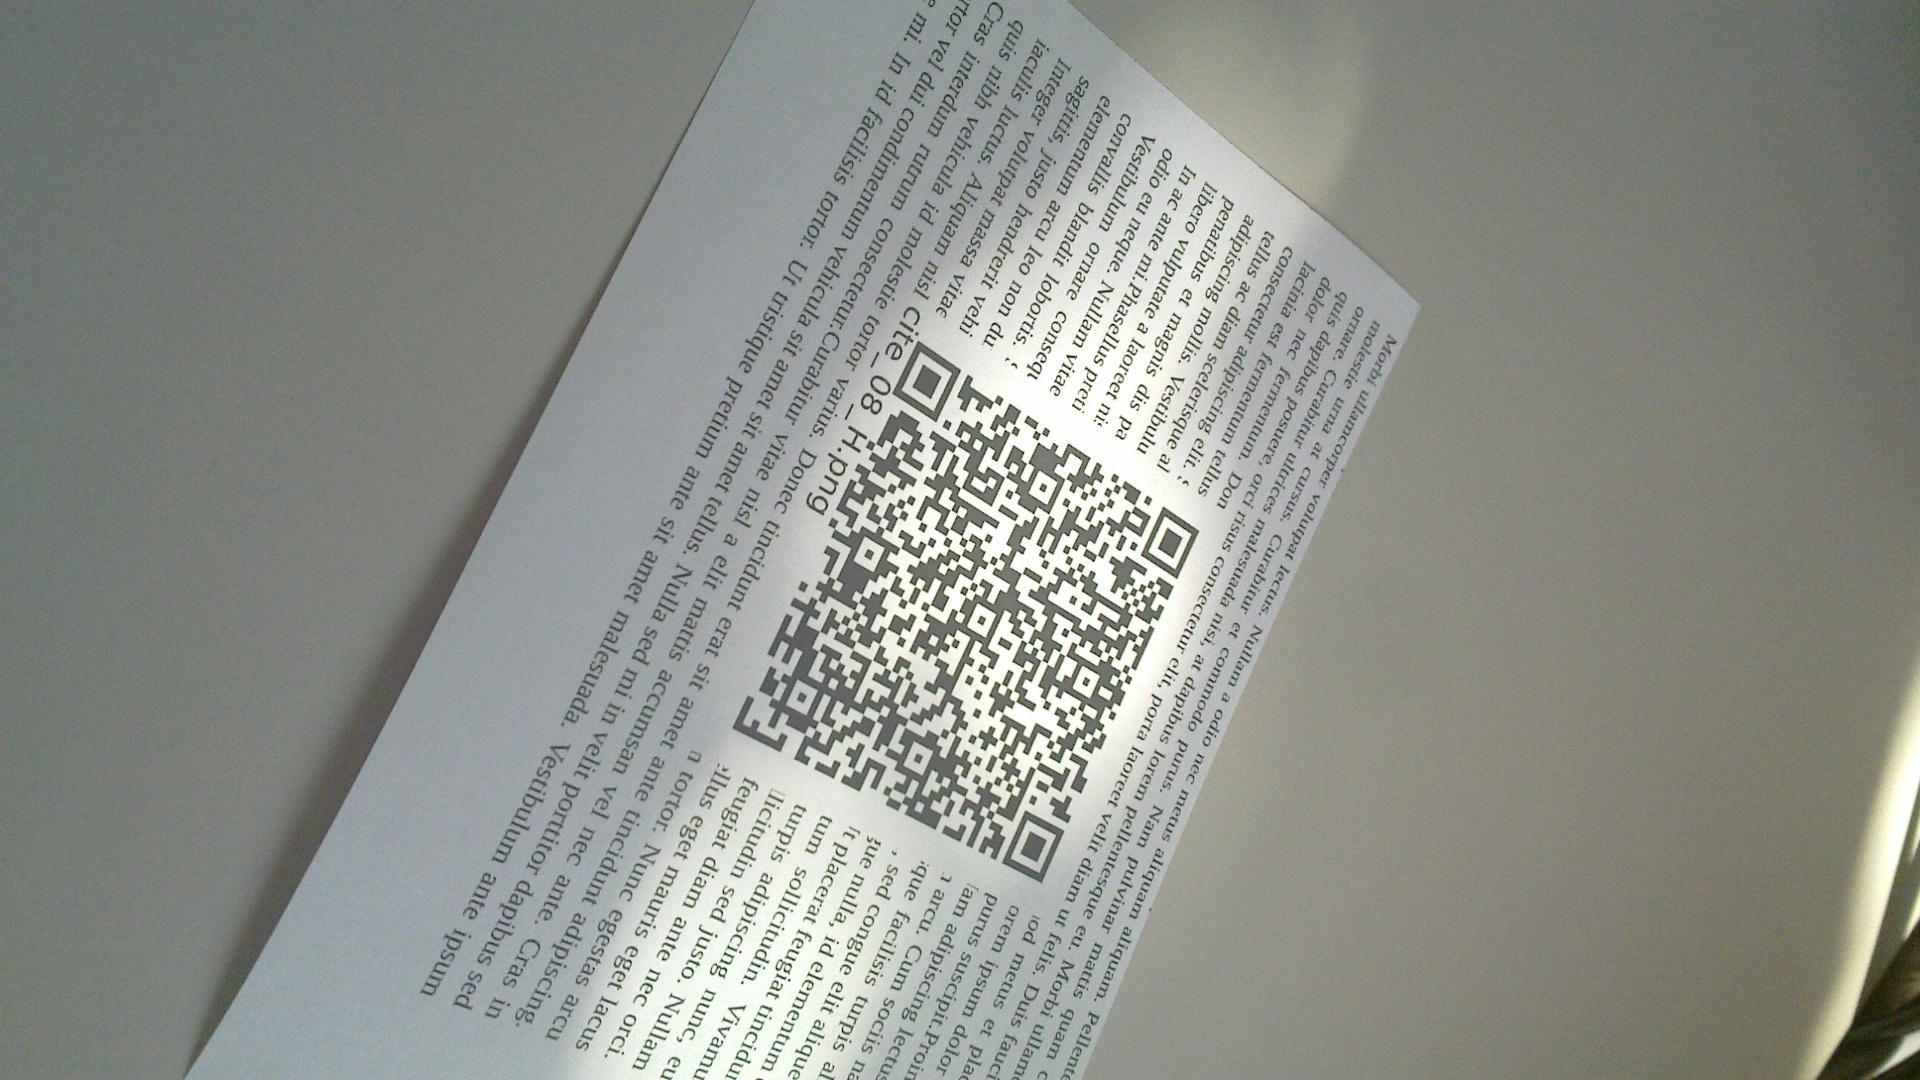Finder pattern: (887, 340, 963, 417), (1002, 807, 1064, 882), (1139, 505, 1196, 576)
